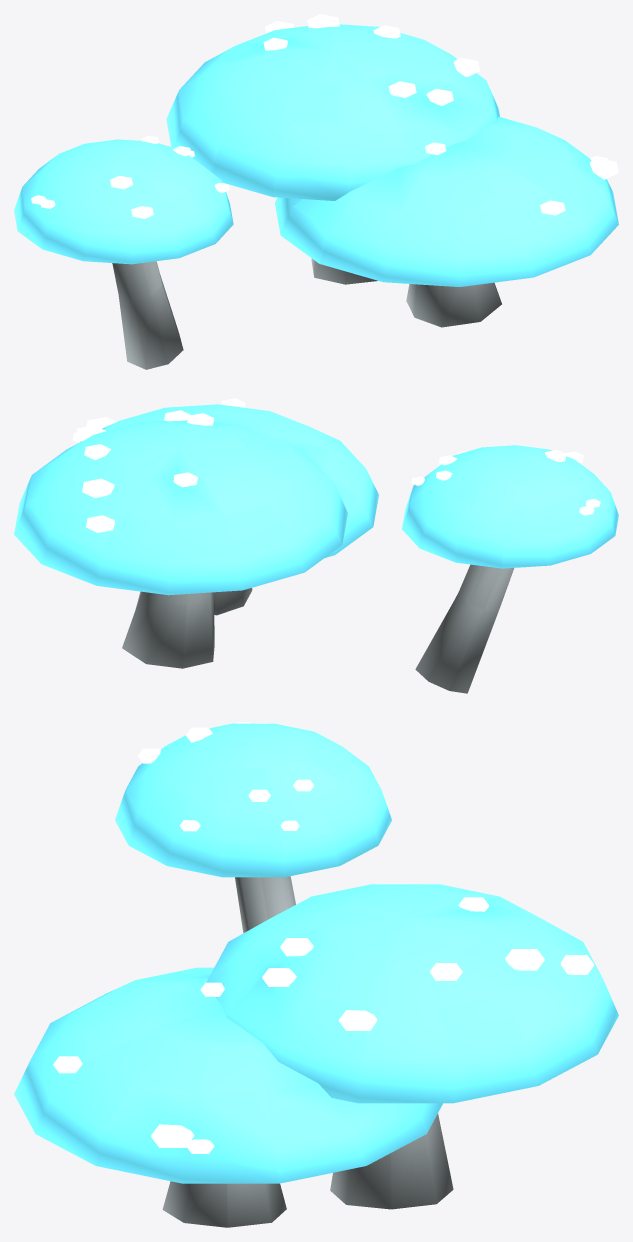
Rendered from obj_deco_hongos_2.glb.
3 views of the same model, one above another, from view 1: azimuth 30°, elevation 25°; view 2: azimuth 150°, elevation 25°; view 3: azimuth 270°, elevation 25° (orthographic). The views are drawn at different scales.
Visible parts, largest first — view 1: propforge-libre-deco_hongos; view 2: propforge-libre-deco_hongos; view 3: propforge-libre-deco_hongos.
Boxes of the visible parts, x1,y1,x2,y2 form: propforge-libre-deco_hongos: (14,14,618,369); propforge-libre-deco_hongos: (14,398,618,693); propforge-libre-deco_hongos: (14,722,618,1227).
Bounding box in the file's own units: 0.5111 × 0.202 × 0.3855.
